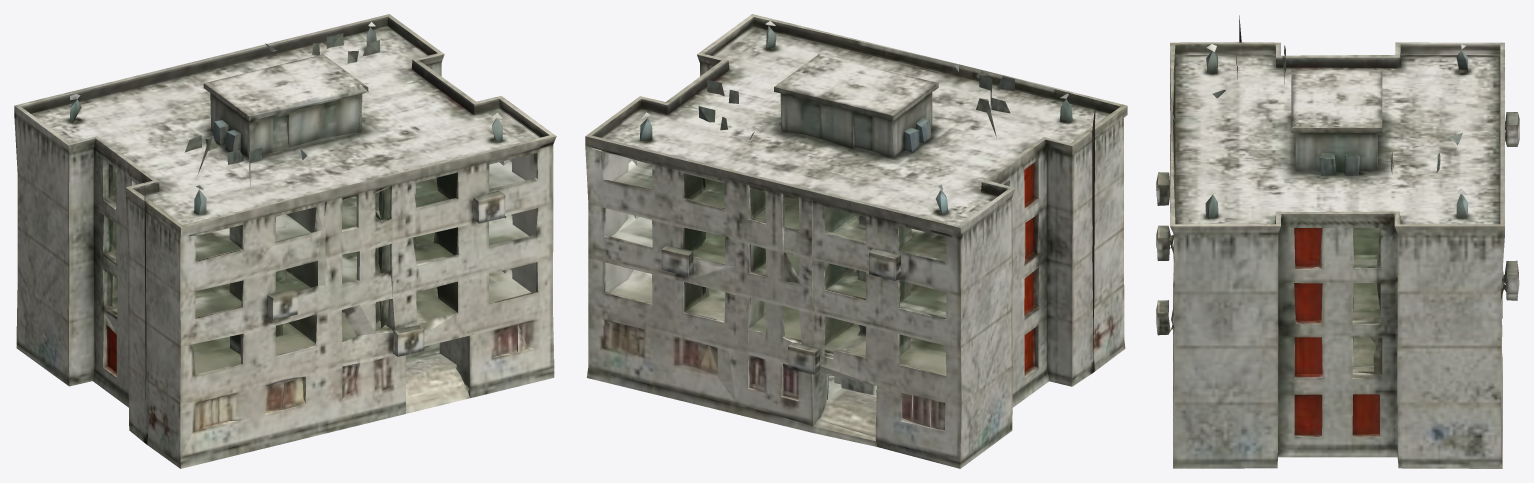
File: block_white.glb
3 renders of one model, left to right at view 1: azimuth 30°, elevation 25°; view 2: azimuth 150°, elevation 25°; view 3: azimuth 270°, elevation 25°, orthographic.
Visible parts, largest first — view 1: block_white; view 2: block_white; view 3: block_white.
Part boxes in pixels (bbox=[...]): block_white: bbox=[14, 14, 556, 468]; block_white: bbox=[585, 14, 1127, 468]; block_white: bbox=[1156, 15, 1519, 468].
Size of the model in its own units: 1.88 by 1.33 by 1.56.
1 material, 1 textured.
